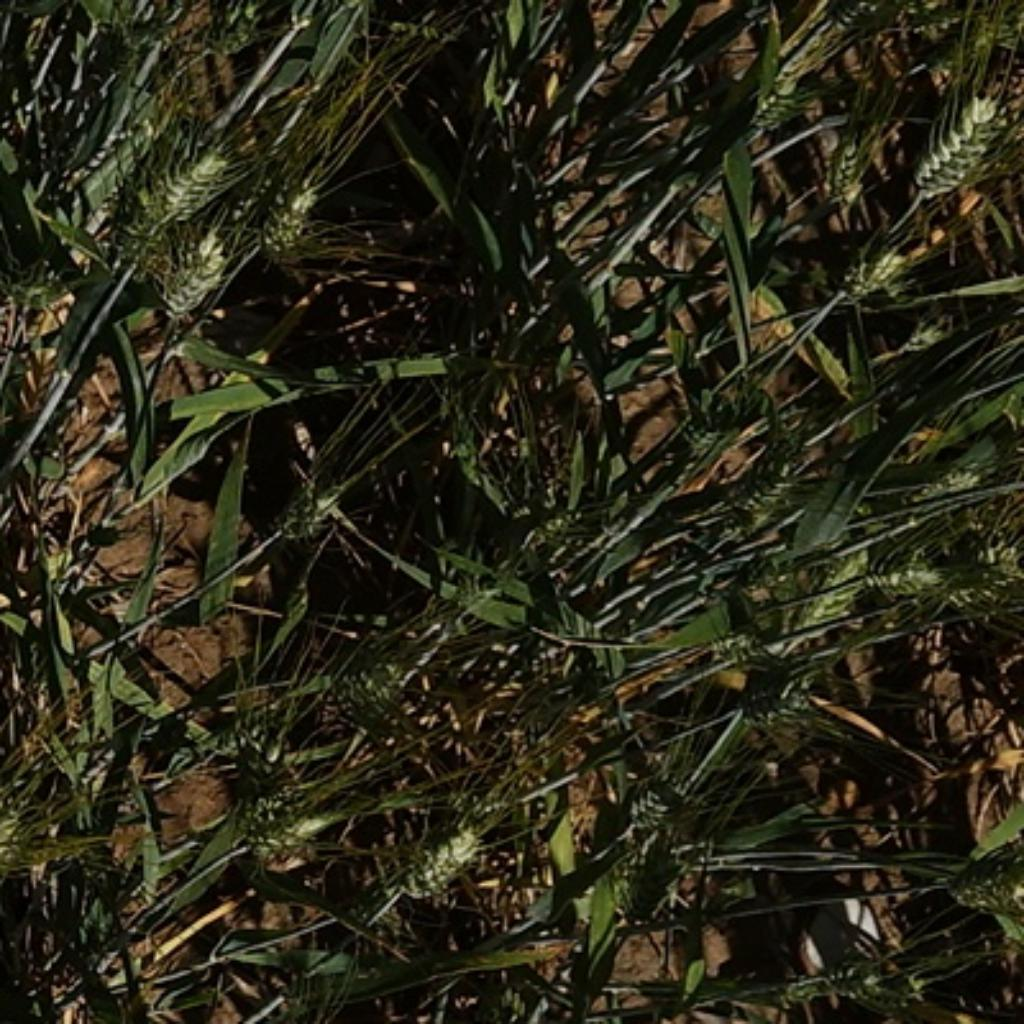0-0: (197, 668, 309, 791), (906, 88, 1014, 201), (709, 412, 816, 517), (225, 760, 337, 857), (129, 138, 235, 233), (378, 808, 486, 901), (238, 173, 333, 276), (314, 650, 431, 731), (153, 222, 253, 313), (747, 30, 826, 130), (268, 460, 360, 545), (613, 831, 695, 923), (734, 683, 837, 750), (846, 548, 964, 602), (829, 240, 924, 307), (624, 760, 701, 842), (814, 122, 875, 225), (0, 773, 57, 881), (507, 477, 583, 554), (188, 1, 281, 62), (782, 966, 890, 1008), (721, 621, 795, 665), (895, 308, 960, 358), (680, 407, 724, 460), (931, 457, 990, 496)
